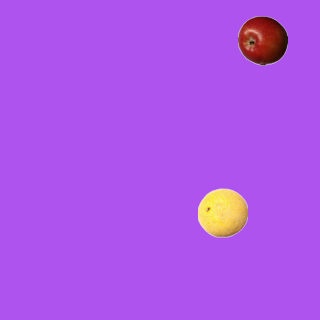Apple Braeburn: (237, 15, 287, 65)
Cantaloupe 1: (197, 187, 247, 237)
